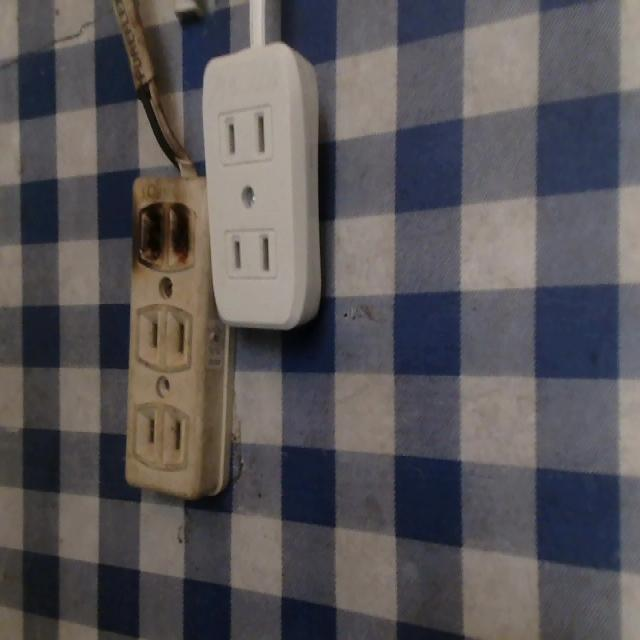-: (131, 196, 195, 272)
